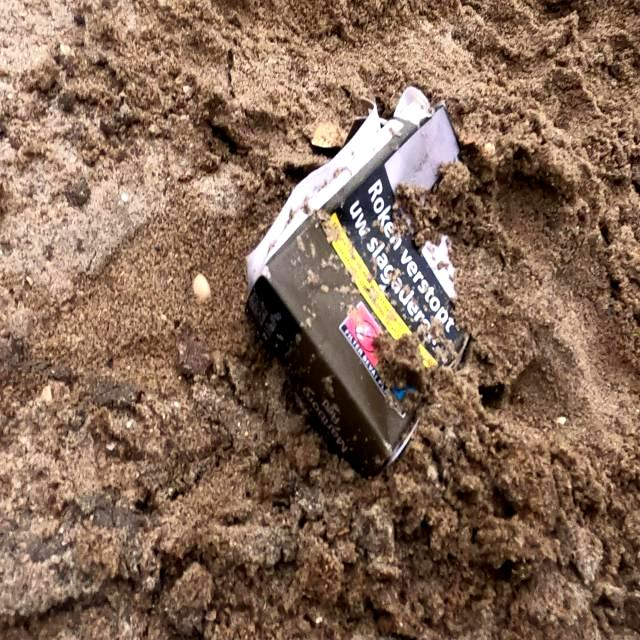Paper: (243, 72, 494, 478)
